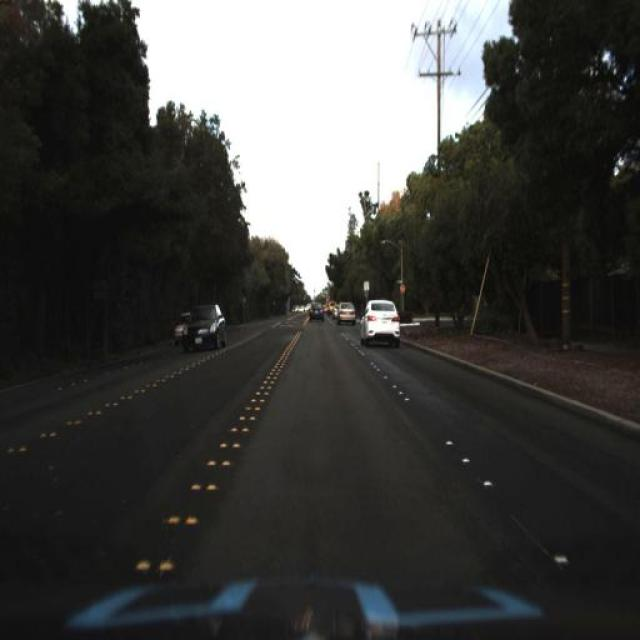car: (360, 298, 404, 352), (176, 307, 227, 349), (335, 299, 353, 330), (306, 304, 326, 328)
